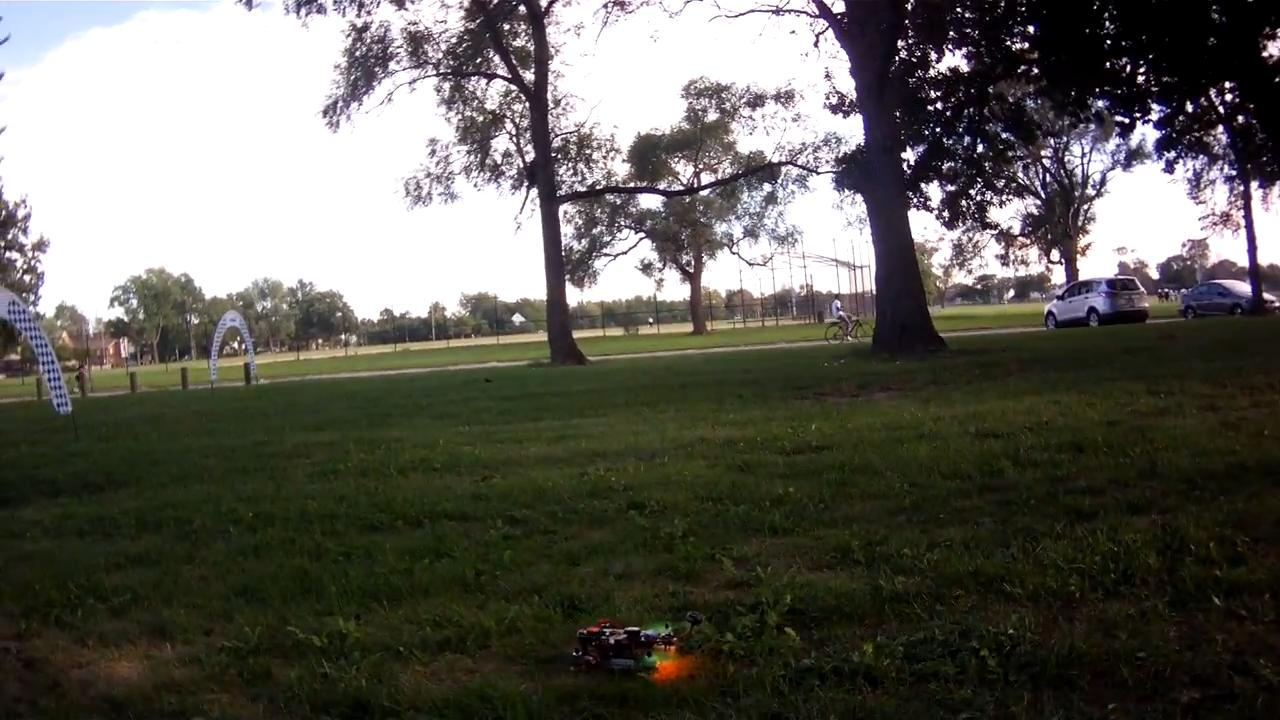gate: (204, 306, 264, 384)
